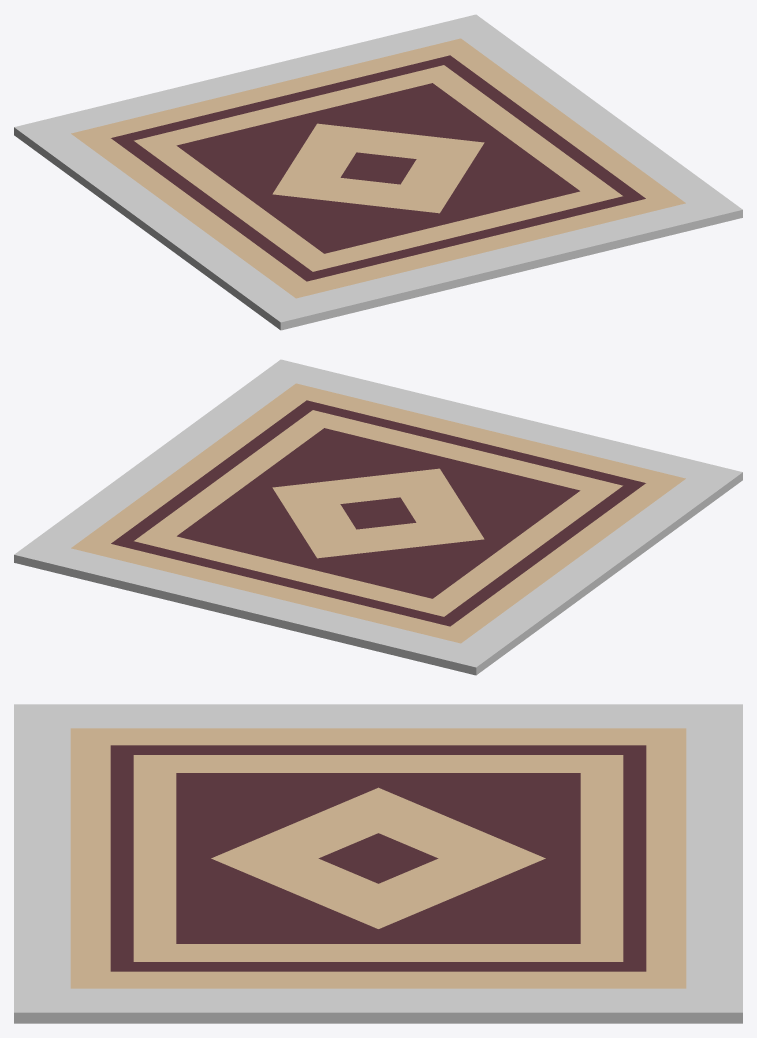
The model's file is empire-carpet-3x3m-empire.glb.
3 renders of one model, top to bottom at view 1: azimuth 30°, elevation 25°; view 2: azimuth 150°, elevation 25°; view 3: azimuth 270°, elevation 25°, orthographic. The views are drawn at different scales.
Visible parts, largest first — view 1: SM_Carpet_3x3m_Empire; view 2: SM_Carpet_3x3m_Empire; view 3: SM_Carpet_3x3m_Empire.
Boxes of the visible parts, x1,y1,x2,y2 form: SM_Carpet_3x3m_Empire: [14, 14, 742, 330]; SM_Carpet_3x3m_Empire: [14, 359, 742, 675]; SM_Carpet_3x3m_Empire: [14, 704, 742, 1023].
Size of the model in its own units: 3 by 0.05 by 3.
